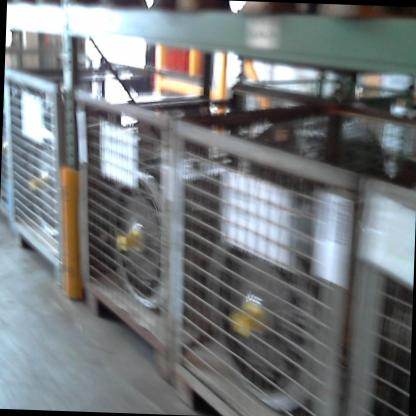stillage: (166, 82, 414, 413), (53, 74, 328, 364), (0, 52, 201, 296), (348, 119, 416, 416)
